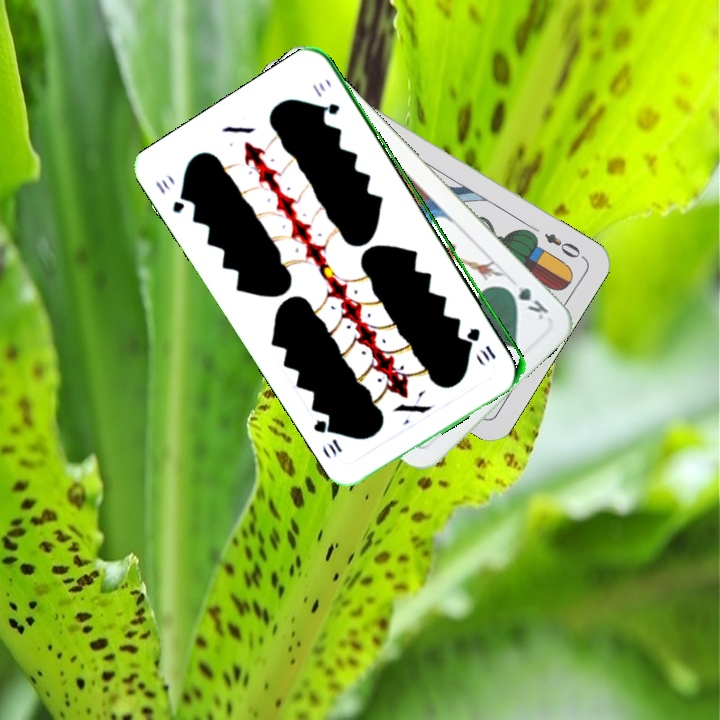EO: (540, 229, 583, 261)
G10: (151, 176, 192, 217), (465, 323, 499, 362)
GK: (500, 282, 552, 323)
